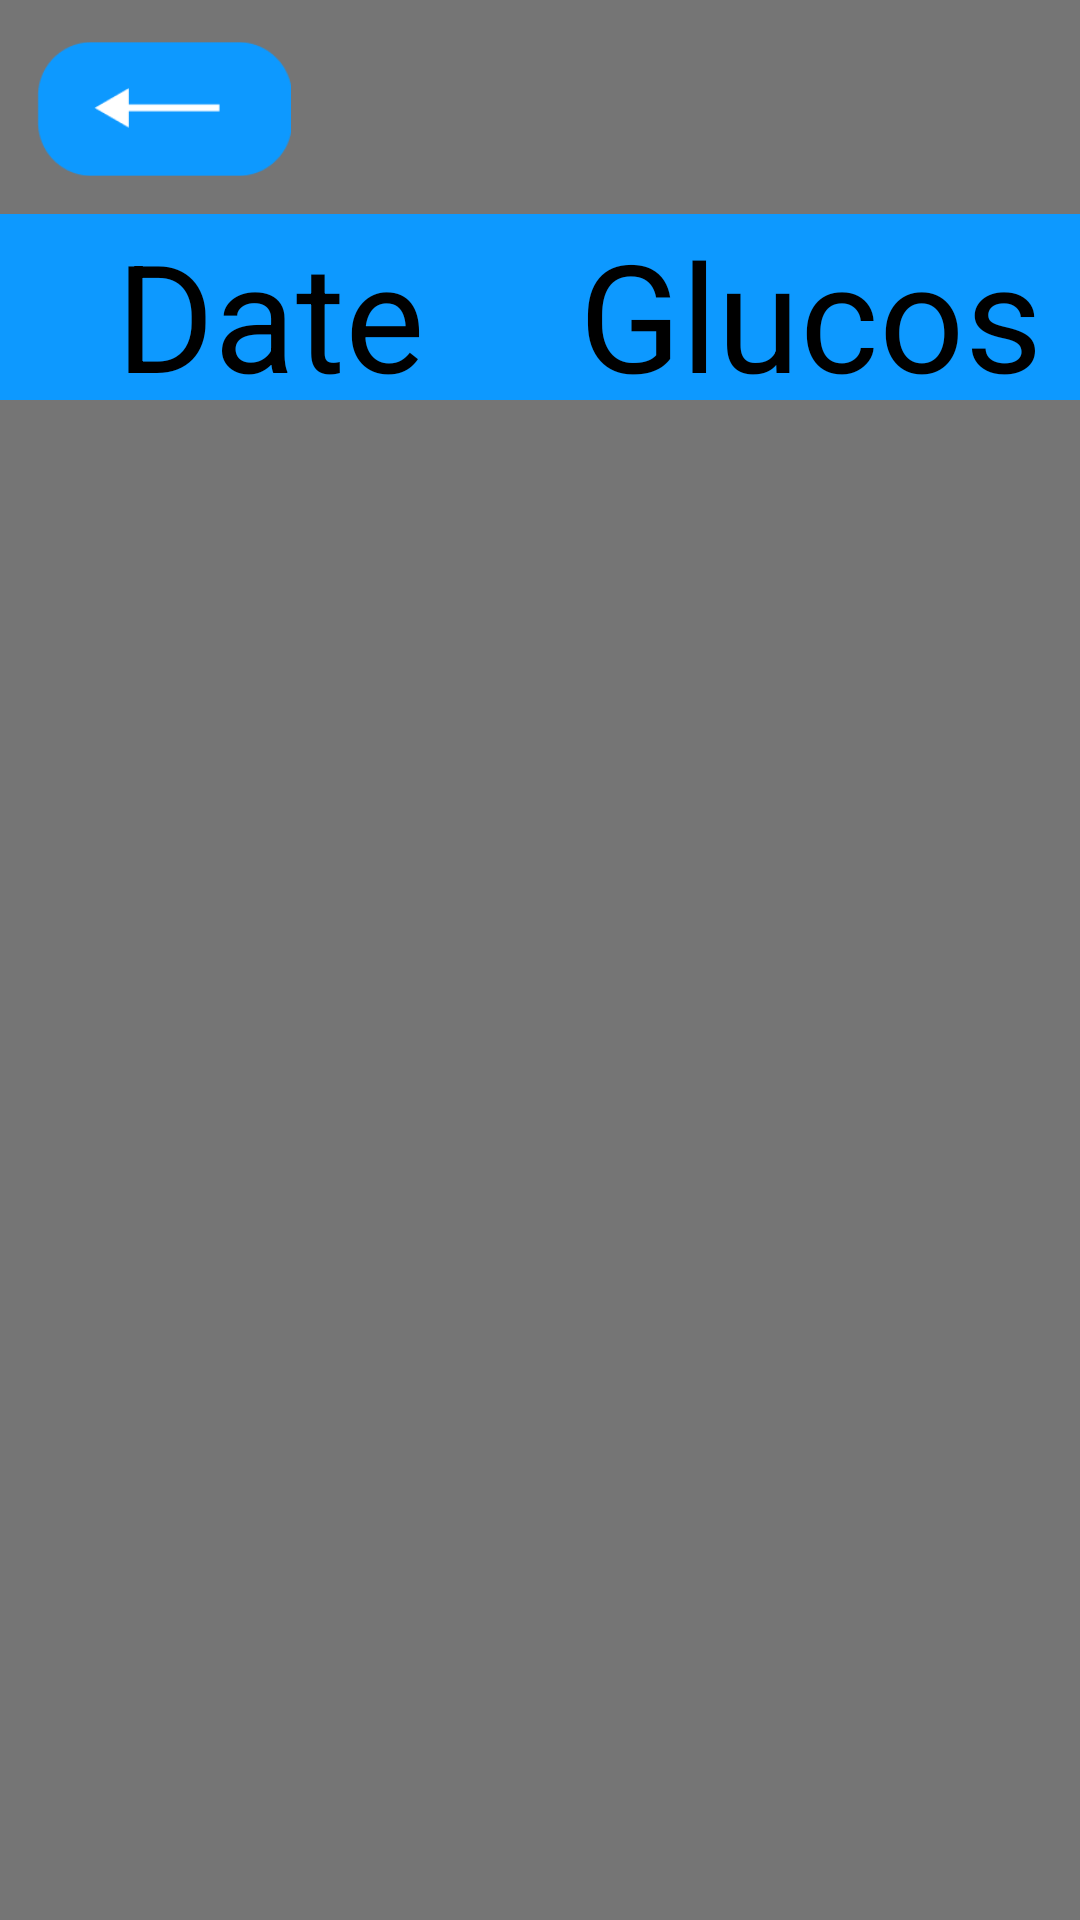

Screen size 1080 x 1920. Icon name, then its box in pixels as rect(x1, y1, x2, y2):
Back Button: rect(38, 42, 291, 176)
